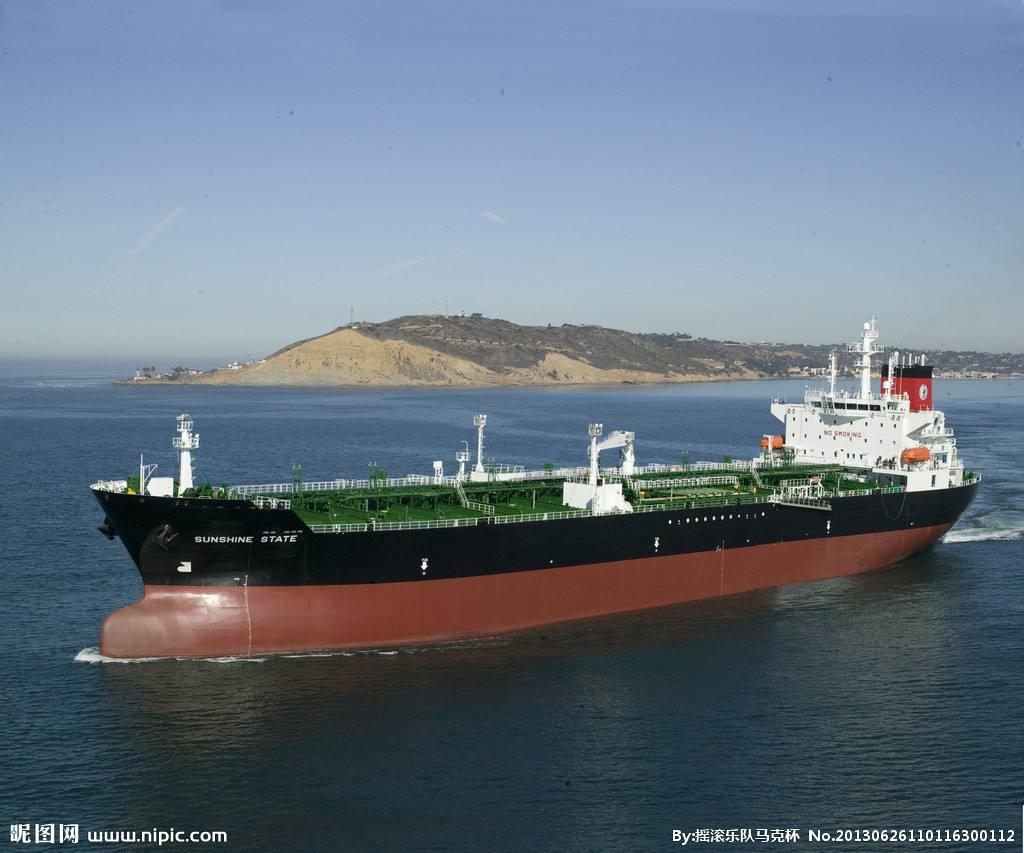Cargoship: (75, 322, 979, 667)
